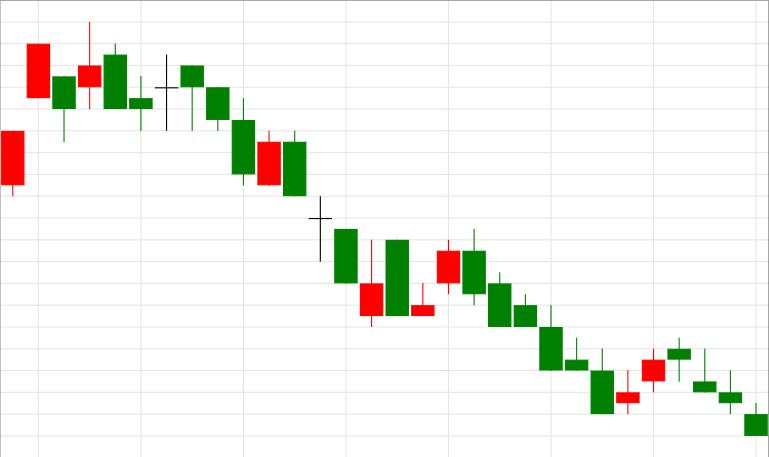inverse_hammer_rise: (182, 65, 384, 326)
